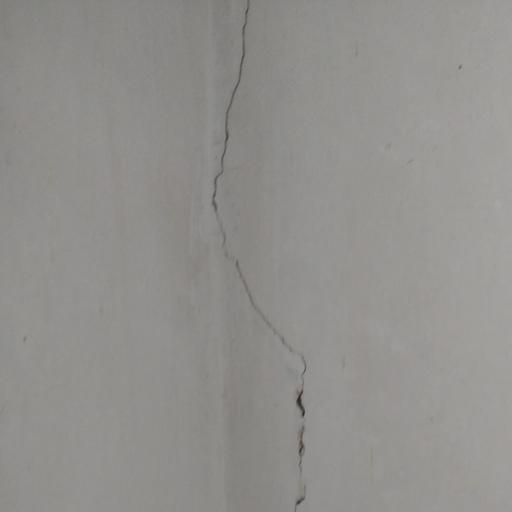major_crack: (205, 0, 313, 512)
